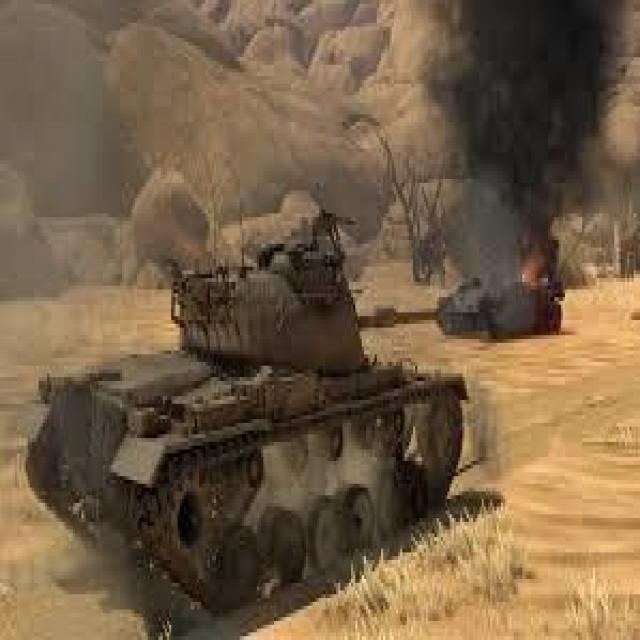Tanks: (32, 244, 484, 598)
